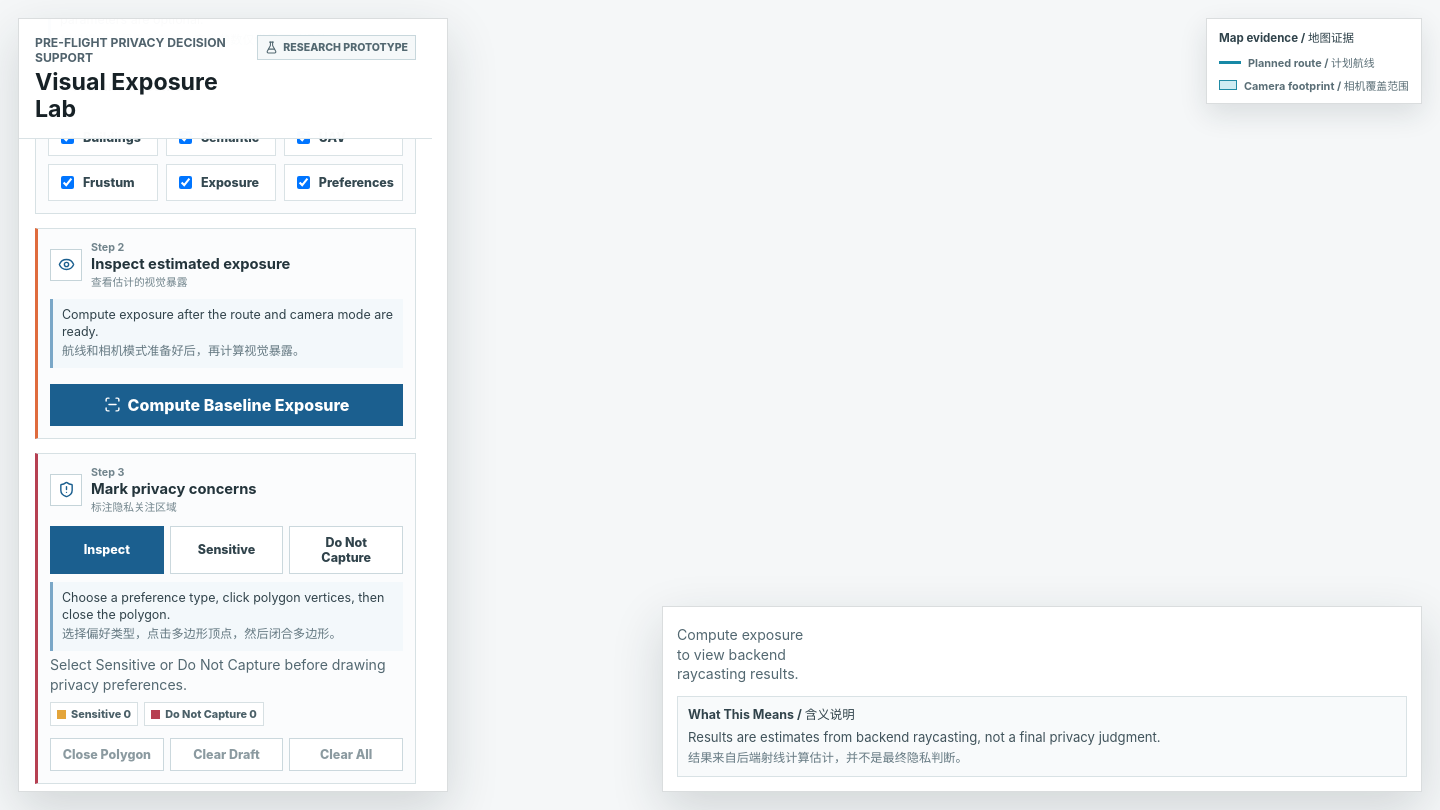
Scenario: App › records a final decision and confidence after exposure is computed
(page scrolled)
Click the button "Compute Baseline Exposure" at (226, 405), box [50, 384, 403, 426]
(page scrolled)
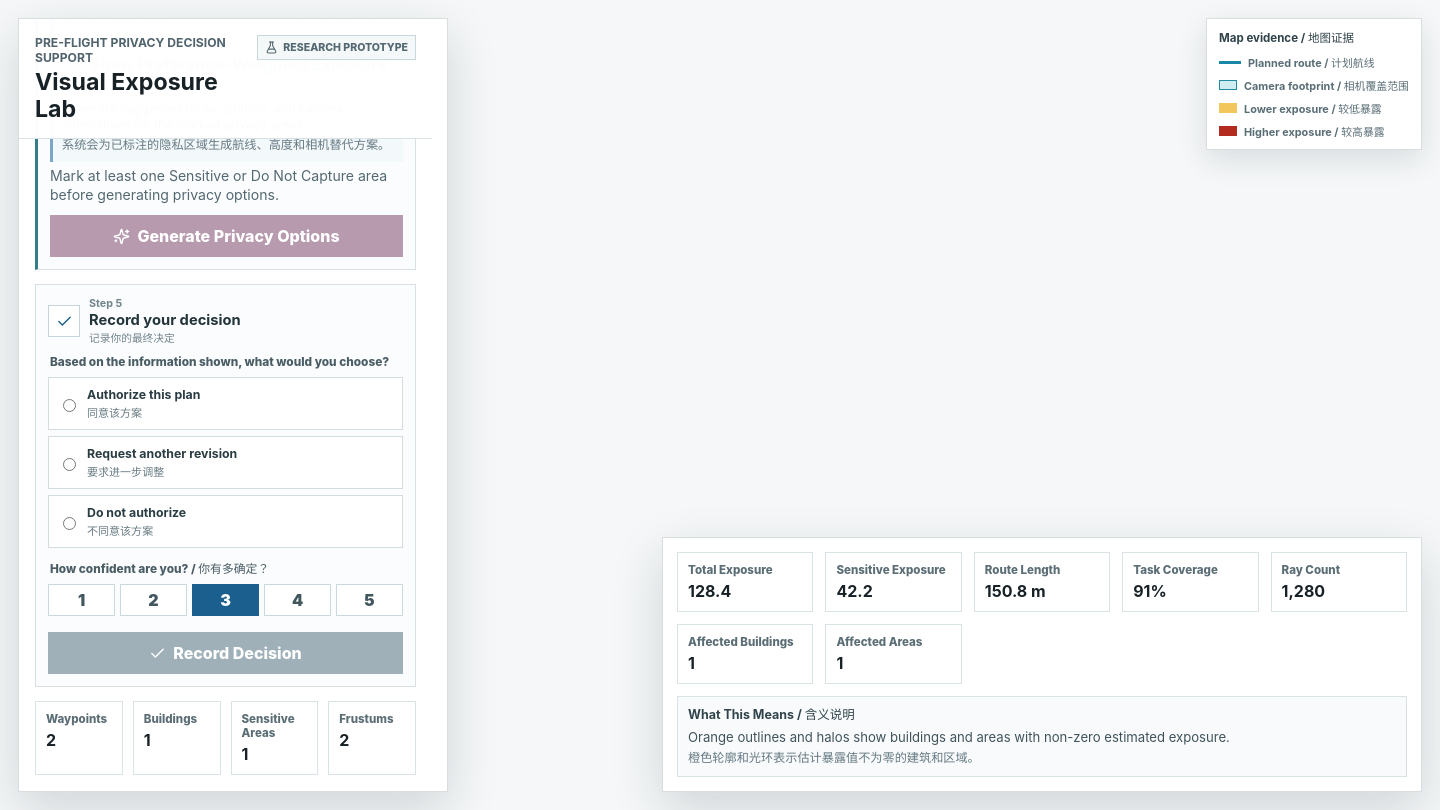
Click the radio button labelled "Authorize this plan 同意该方案" at (70, 405), box [63, 398, 76, 412]
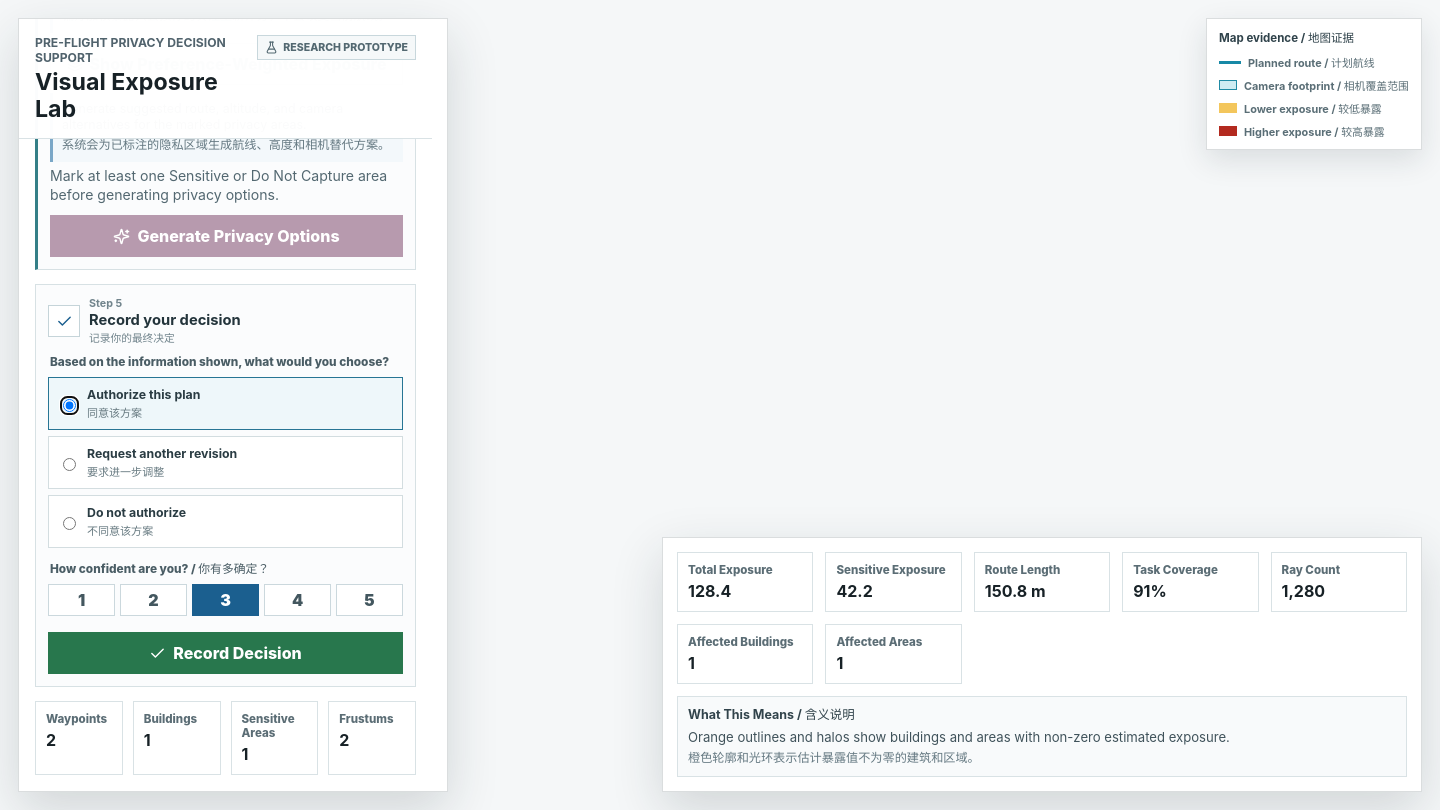
Click the button named "Decision confidence 4" at (298, 600), box [264, 584, 331, 616]
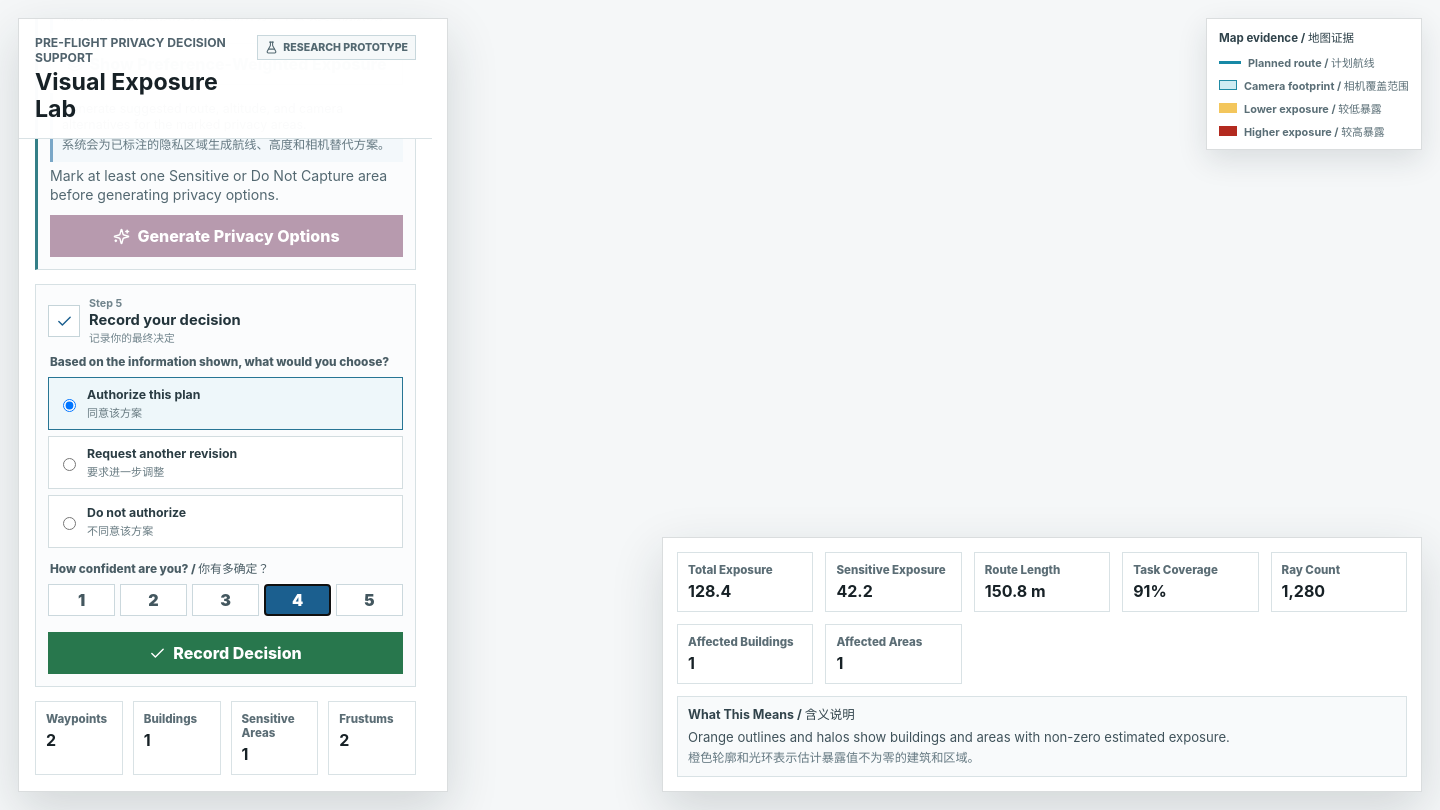
Click the button "Record Decision" at (226, 653), box [48, 632, 403, 674]
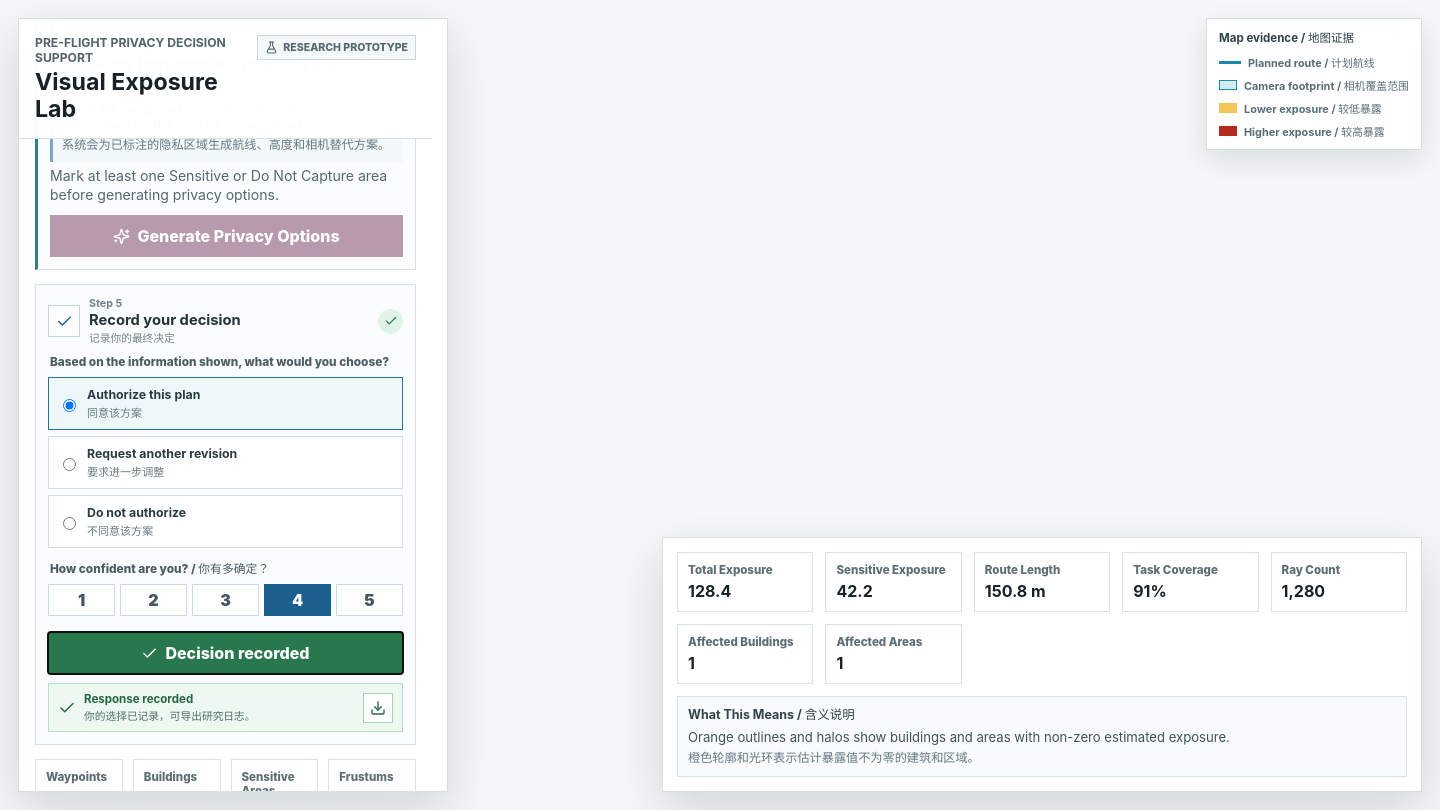
Expected: the text "Response recorded" is shown, [84, 692, 193, 706]
Expected: the button "Decision recorded" is shown, [48, 632, 403, 674]
